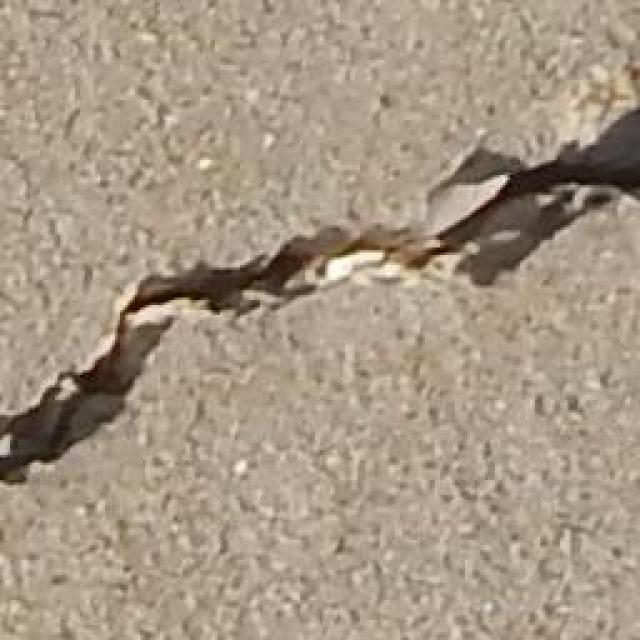concrete-crack: (0, 84, 640, 500)
